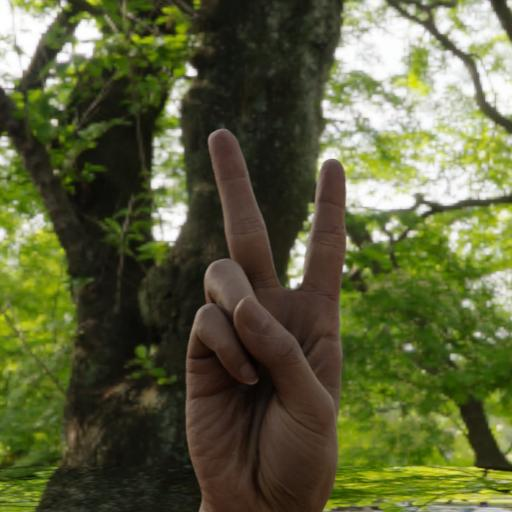V: (178, 121, 356, 512)
